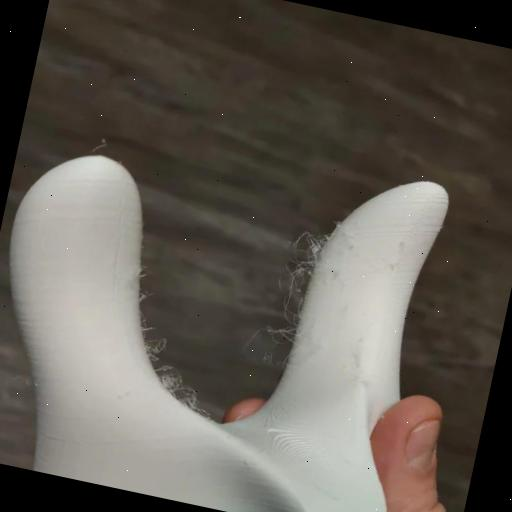stringing: (298, 230, 328, 264), (286, 256, 316, 286), (264, 320, 299, 345), (156, 368, 186, 394), (144, 330, 166, 358), (174, 387, 202, 409)
